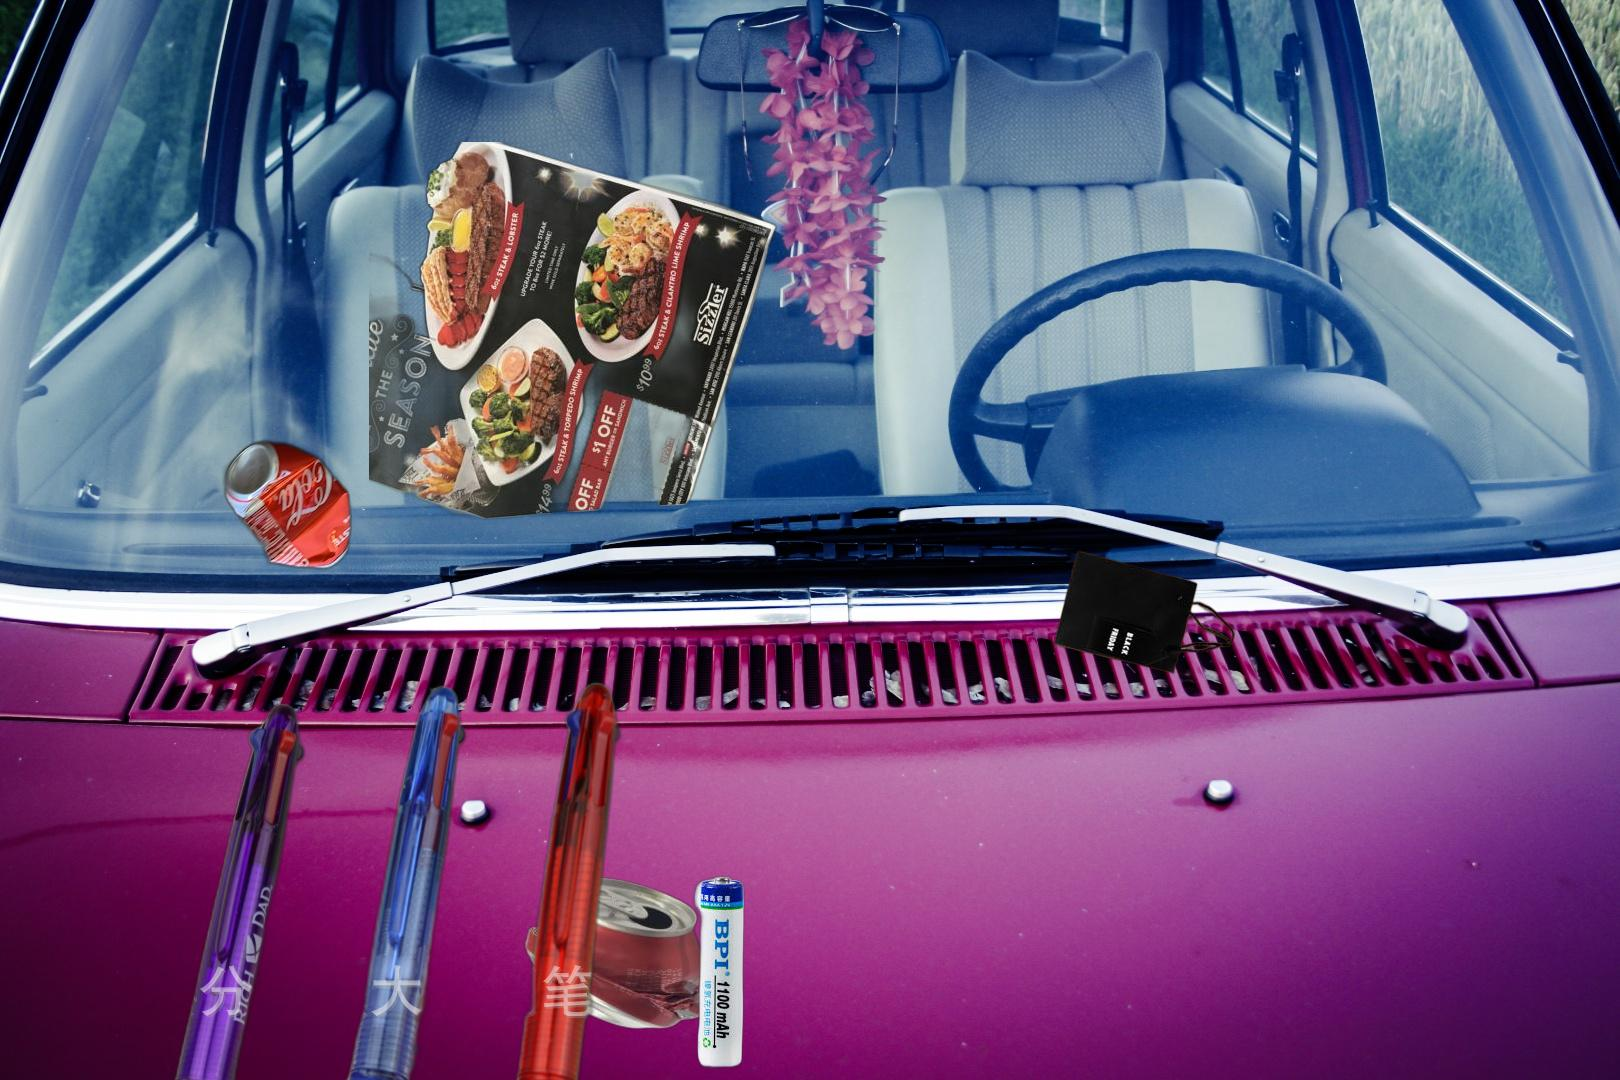battery: (692, 873, 747, 1073)
metal-cans: (520, 874, 714, 1031), (221, 435, 356, 575)
paper: (369, 142, 780, 526)
paper-bag: (1052, 547, 1238, 675)
penholder: (99, 676, 627, 1080)
